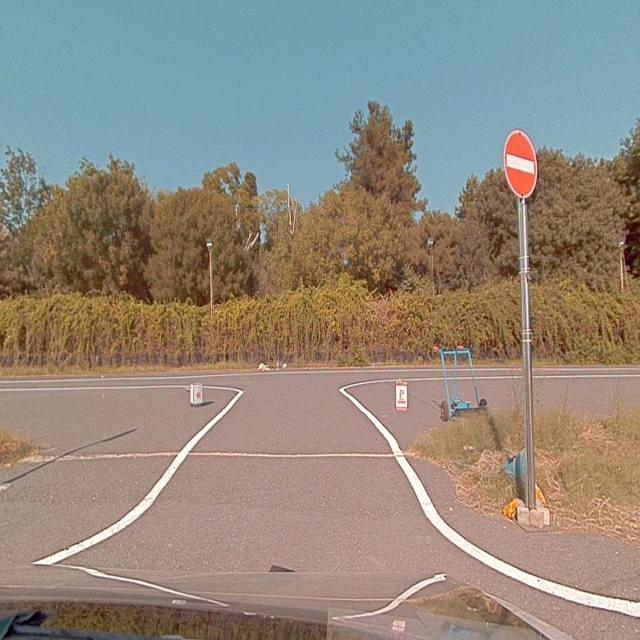girisyok: (505, 130, 538, 192)
